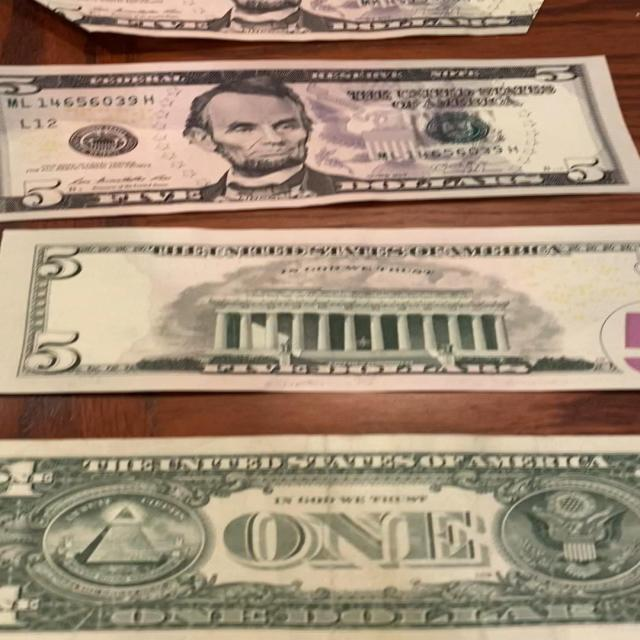1-Back: (0, 424, 640, 640)
5-Back: (0, 224, 640, 404)
5-Front: (0, 54, 640, 225), (10, 0, 574, 43)
